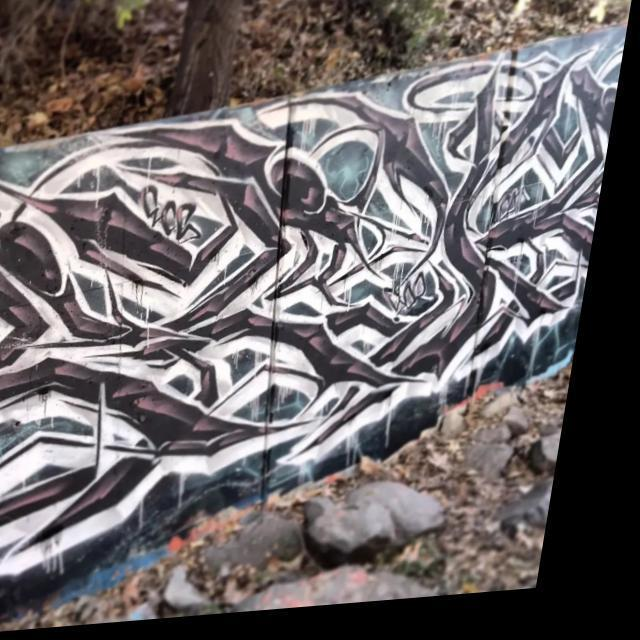-: (0, 28, 631, 634)
